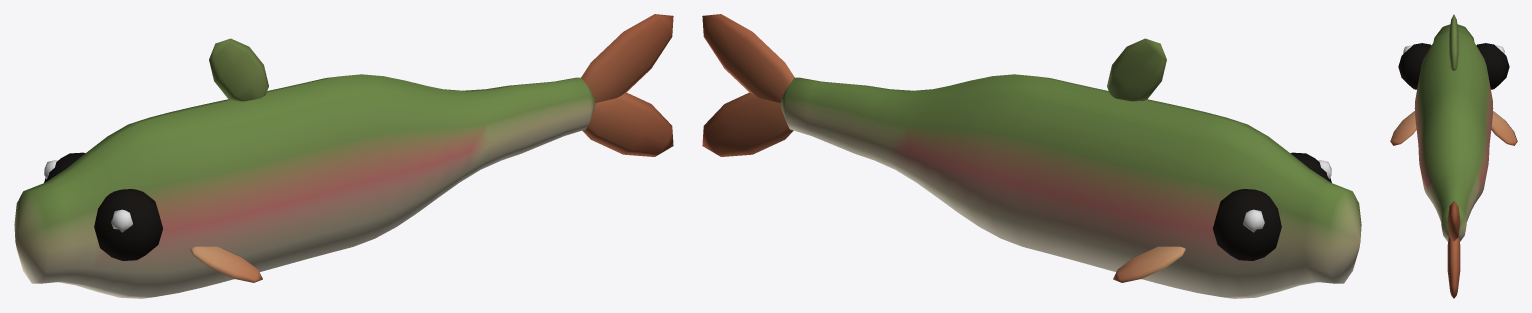
Rendered from Trout.glb.
3 views of the same model, side by side, from view 1: azimuth 30°, elevation 25°; view 2: azimuth 150°, elevation 25°; view 3: azimuth 270°, elevation 25° (orthographic). The views are drawn at different scales.
Parts seen in each view (by area): view 1: Trout; view 2: Trout; view 3: Trout.
Part boxes in pixels (<box>): Trout: <box>14,14,673,298</box>; Trout: <box>702,14,1361,298</box>; Trout: <box>1390,14,1517,298</box>.
Bounding box in the file's own units: 1.27 × 0.4418 × 0.3275.
